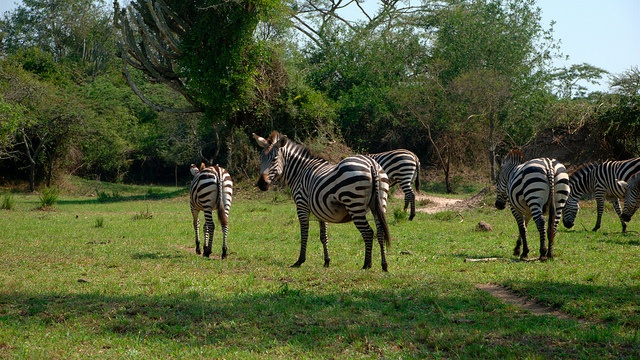zebra: (323, 202, 466, 347), (531, 205, 608, 322), (211, 209, 258, 309), (394, 185, 450, 259), (600, 194, 640, 272)
